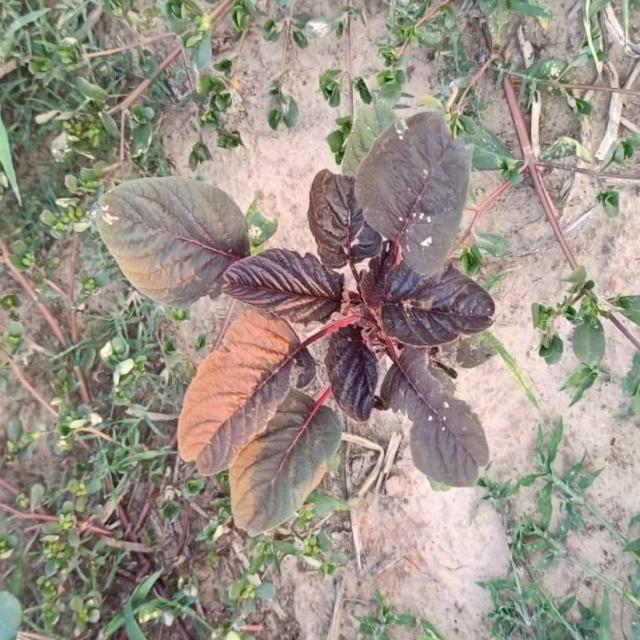plant: (99, 101, 494, 533)
